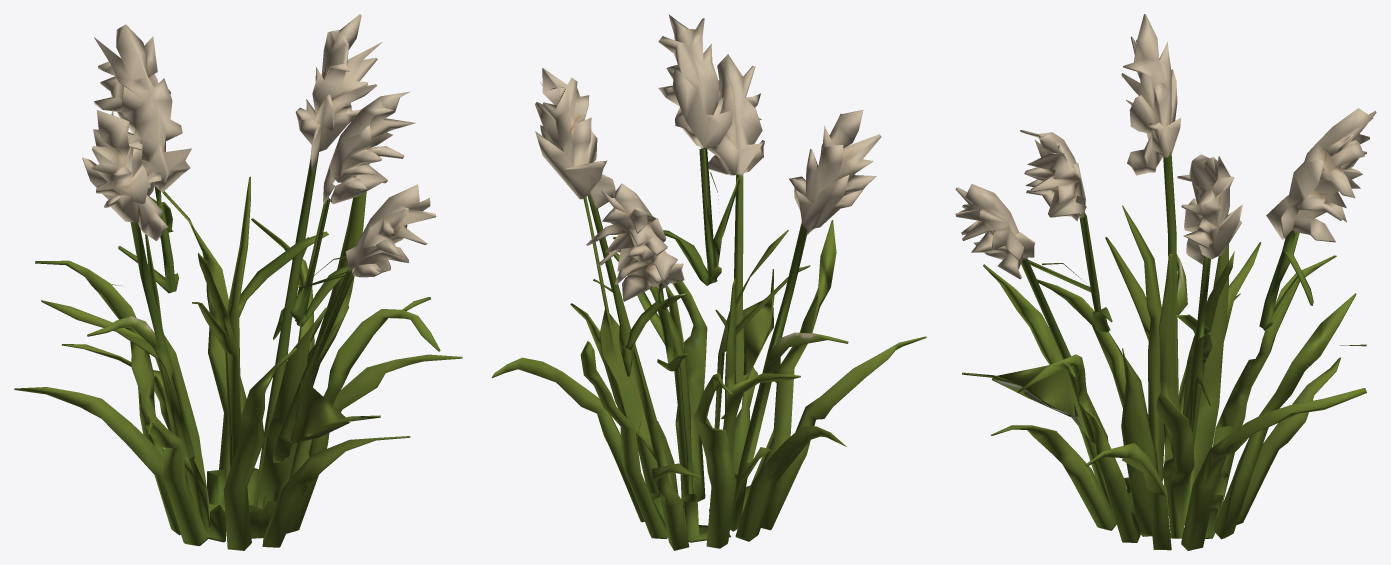
The model's file is reeds.glb.
3 renders of one model, left to right at view 1: azimuth 30°, elevation 25°; view 2: azimuth 150°, elevation 25°; view 3: azimuth 270°, elevation 25°, orthographic. The views are drawn at different scales.
Parts seen in each view (by area): view 1: tripo_node_229a0388-9354-4a48-aabb-19fb37ca8c8b; view 2: tripo_node_229a0388-9354-4a48-aabb-19fb37ca8c8b; view 3: tripo_node_229a0388-9354-4a48-aabb-19fb37ca8c8b.
Boxes of the visible parts, bbox=[...] form: tripo_node_229a0388-9354-4a48-aabb-19fb37ca8c8b: bbox=[14, 14, 462, 550]; tripo_node_229a0388-9354-4a48-aabb-19fb37ca8c8b: bbox=[491, 14, 926, 550]; tripo_node_229a0388-9354-4a48-aabb-19fb37ca8c8b: bbox=[955, 14, 1376, 550].
Bounding box in the file's own units: 0.8395 × 1 × 0.865.
1 material, 1 textured.
